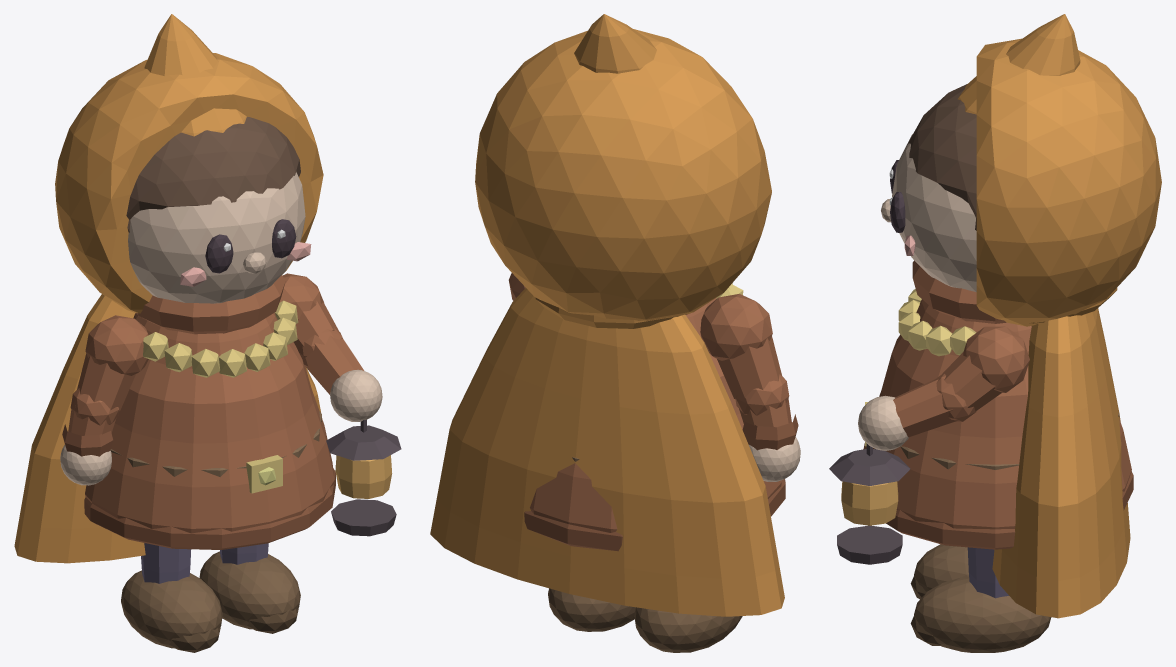
The model's file is hero_monk.glb.
3 views of the same model, side by side, from view 1: azimuth 30°, elevation 25°; view 2: azimuth 150°, elevation 25°; view 3: azimuth 270°, elevation 25° (orthographic). The views are drawn at different scales.
Visible parts, largest first — view 1: hero_monk; view 2: hero_monk; view 3: hero_monk.
Part boxes in pixels (<box>): hero_monk: <box>14,14,401,652</box>; hero_monk: <box>430,14,800,652</box>; hero_monk: <box>829,14,1161,652</box>.
Bounding box in the file's own units: 1.21 × 2.14 × 1.06.
